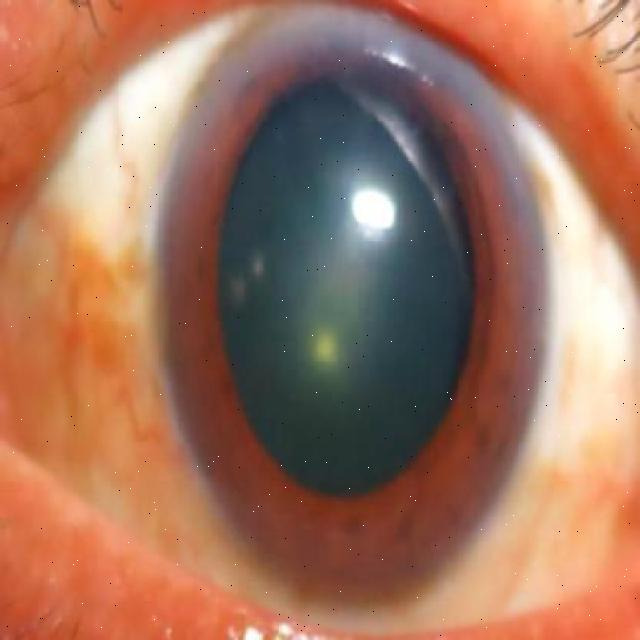Cataract: (155, 2, 553, 612)
